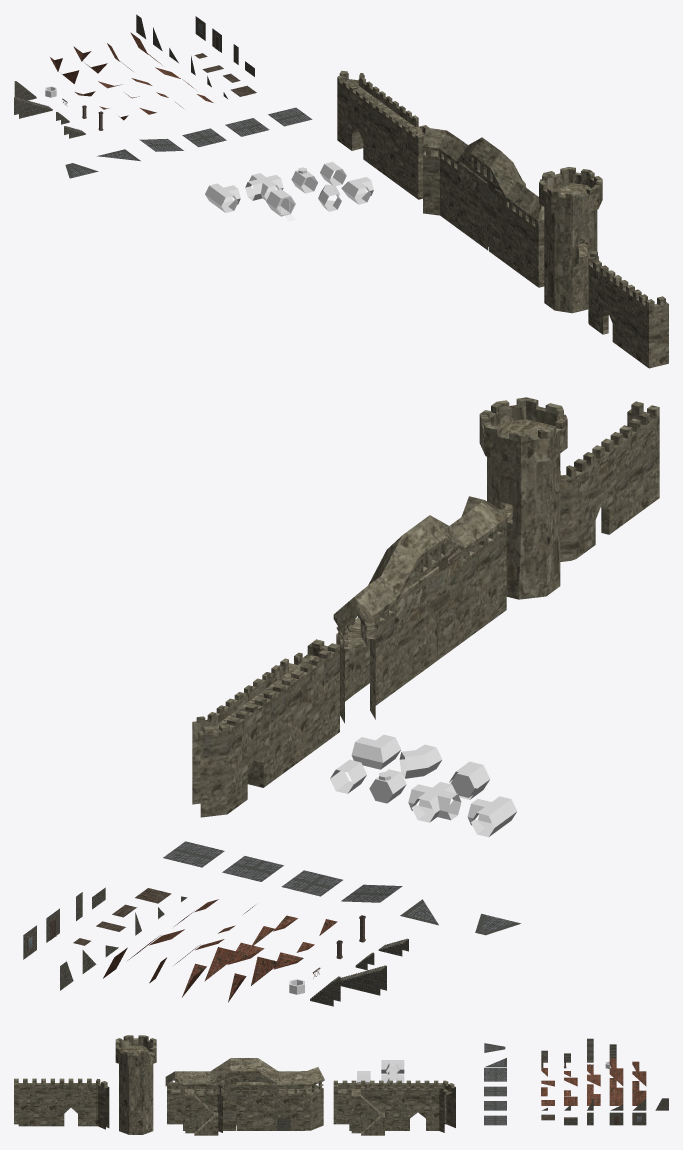
File: City_Assets_New.fbx
3 renders of one model, top to bottom at view 1: azimuth 30°, elevation 25°; view 2: azimuth 150°, elevation 25°; view 3: azimuth 270°, elevation 25°, orthographic. The views are drawn at different scales.
Visible parts, largest first — view 1: Tower, Gate_House, Wall_Corner_90, Wall_R_Corner_45_Out, Wall_W_Straight, Wall_W_Gate, Gate_House_Roof, Wall_W_Stairs, Wall_Straight, Wall_Gate, Wall_R_Stairs, Wall_R_Corner_90 (+10 smaller); view 2: Tower, Gate_House, Wall_W_Corner_45, Wall_W_Straight, Gate_House_Roof, Wall_W_Stairs, Wall_W_Gate, Wall_Straight, Wall_Corner_45, Wall_Gate, Wall_R_Stairs, Wall_R_Straight_End (+17 smaller); view 3: Tower, Gate_House, Wall_W_Stairs, Wall_R_Stairs, Wall_Straight, Wall_R_Corner_45_Out, Wall_W_Straight, Wall_Corner_45, Wall_W_Corner_45, Wall_W_Gate, Wall_Gate, Gate_House_Roof (+20 smaller).
Boxes of the visible parts, x1,y1,x2,y2 form: Tower: (539,167,602,313); Gate_House: (458,156,508,264); Wall_Corner_90: (637,294,668,368); Wall_R_Corner_45_Out: (423,150,450,221); Wall_W_Straight: (367,96,405,176); Wall_W_Gate: (347,81,386,161); Gate_House_Roof: (456,137,526,199); Wall_W_Stairs: (387,110,426,190); Wall_Straight: (617,280,641,359); Wall_Gate: (598,265,621,345); Wall_R_Stairs: (507,203,528,278); Wall_R_Corner_90: (527,217,544,287); Tower: (479,397,567,599); Gate_House: (367,541,463,690); Wall_W_Corner_45: (192,712,241,817); Wall_W_Straight: (243,672,296,783); Gate_House_Roof: (368,515,465,602); Wall_W_Stairs: (270,654,323,763); Wall_W_Gate: (216,692,269,803); Wall_Straight: (610,418,643,529); Wall_Corner_45: (560,458,588,561); Wall_Gate: (583,438,616,549); Wall_R_Stairs: (463,536,490,641); Wall_R_Straight_End: (354,604,409,700); Tower: (115,1035,156,1134); Gate_House: (210,1073,278,1130); Wall_W_Stairs: (349,1080,384,1135); Wall_R_Stairs: (183,1086,218,1135); Wall_Straight: (30,1078,57,1126); Wall_R_Corner_45_Out: (291,1086,323,1130); Wall_W_Straight: (377,1080,404,1130); Wall_Corner_45: (84,1078,109,1129); Wall_W_Corner_45: (431,1080,455,1132); Wall_W_Gate: (404,1080,431,1130); Wall_Gate: (57,1078,84,1126); Gate_House_Roof: (210,1058,278,1084).
Size of the model in its own units: 4831 by 2026 by 14350.
